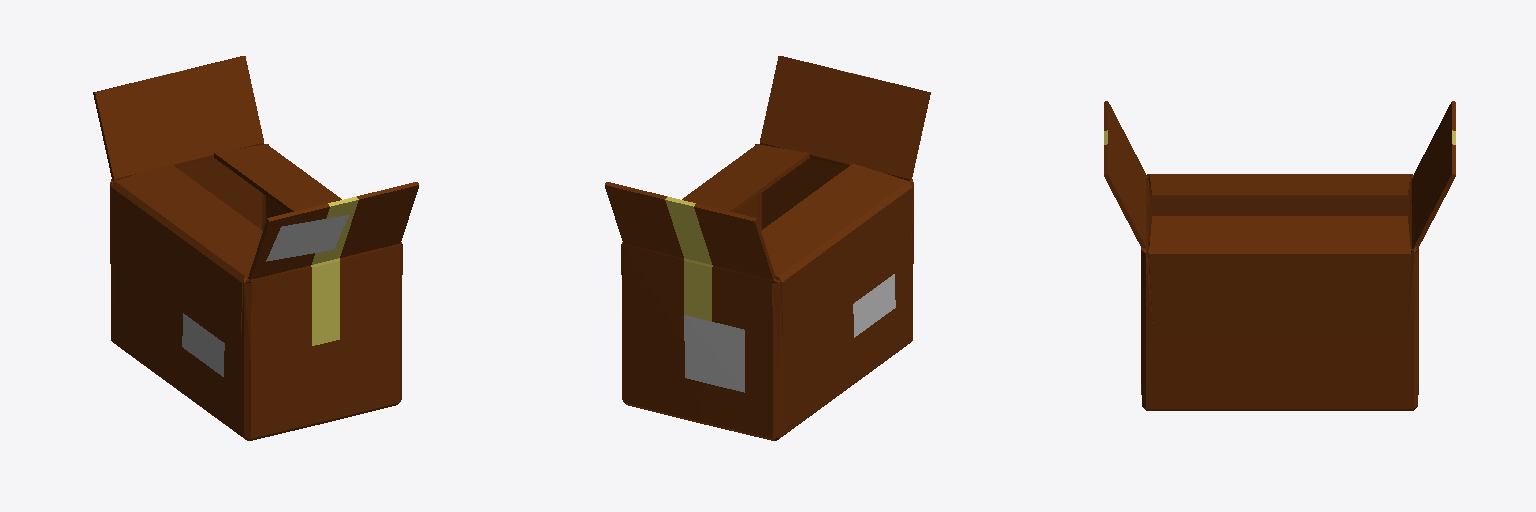
File: Cardboard.014.obj
The picture shows the model from 3 angles: view 1: azimuth 30°, elevation 25°; view 2: azimuth 150°, elevation 25°; view 3: azimuth 270°, elevation 25°; orthographic projection.
Parts seen in each view (by area): view 1: Cardboard.014_Cube.021, BlueSticker.007_Plane.018, codeBArre.009_codeBArre.007; view 2: Cardboard.014_Cube.021, sign4.008_sign4.004, codeBArre.009_codeBArre.007; view 3: Cardboard.014_Cube.021.
Part boxes in pixels (bbox=[...]): Cardboard.014_Cube.021: bbox=[93, 56, 418, 440]; BlueSticker.007_Plane.018: bbox=[266, 215, 348, 261]; codeBArre.009_codeBArre.007: bbox=[182, 313, 224, 376]; Cardboard.014_Cube.021: bbox=[605, 56, 930, 440]; sign4.008_sign4.004: bbox=[684, 315, 744, 392]; codeBArre.009_codeBArre.007: bbox=[853, 274, 895, 337]; Cardboard.014_Cube.021: bbox=[1104, 101, 1455, 410].
Bounding box in the file's own units: 0.3892 × 0.5533 × 0.743.